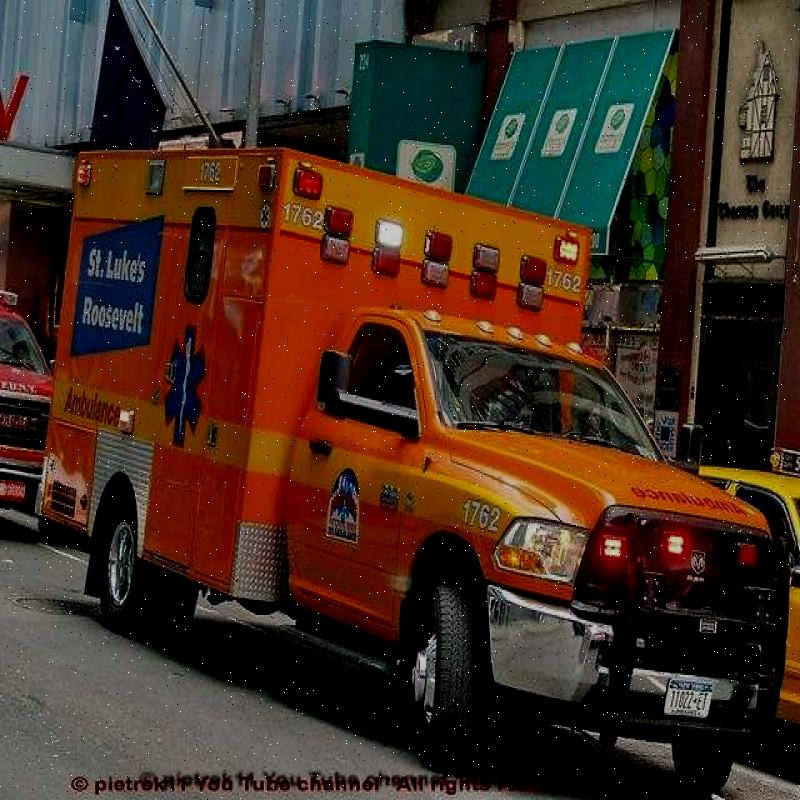AmbulanceSiren: (312, 180, 574, 331)
